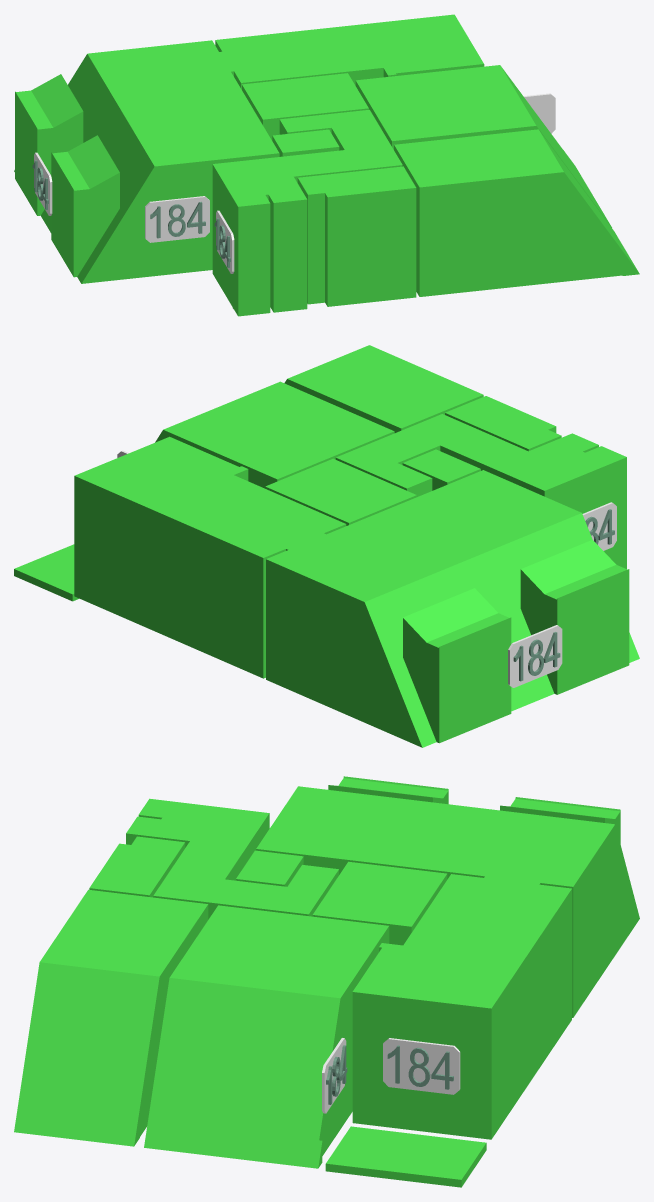
The picture shows the model from 3 angles, top to bottom: view 1: azimuth 30°, elevation 25°; view 2: azimuth 150°, elevation 25°; view 3: azimuth 270°, elevation 25°; orthographic projection. The views are drawn at different scales.
Parts seen in each view (by area): view 1: g_6, g_2, g_4, g_0, g_5, g_1, g_3, g_20, g_7, g_24, g_28, g_12; view 2: g_6, g_5, g_4, g_1, g_2, g_3, g_0, g_8, g_12, g_7, g_28; view 3: g_1, g_5, g_6, g_2, g_4, g_8, g_3, g_0, g_16, g_7, g_24.
Part boxes in pixels (<box>): g_6: <box>14,40,279,283</box>; g_2: <box>394,129,639,296</box>; g_4: <box>212,109,402,316</box>; g_0: <box>297,166,416,306</box>; g_5: <box>215,14,484,89</box>; g_1: <box>355,65,611,227</box>; g_3: <box>242,73,368,140</box>; g_20: <box>145,196,209,242</box>; g_7: <box>272,129,339,156</box>; g_24: <box>523,93,555,133</box>; g_28: <box>216,210,234,273</box>; g_12: <box>34,152,52,215</box>; g_6: <box>266,470,639,747</box>; g_5: <box>74,436,346,678</box>; g_4: <box>335,414,626,568</box>; g_1: <box>155,381,394,488</box>; g_2: <box>284,345,483,432</box>; g_3: <box>265,458,416,525</box>; g_0: <box>445,396,561,451</box>; g_8: <box>14,544,79,601</box>; g_12: <box>508,625,562,687</box>; g_7: <box>402,449,480,490</box>; g_28: <box>582,502,616,550</box>; g_1: <box>144,905,389,1168</box>; g_5: <box>352,874,571,1139</box>; g_6: <box>256,776,639,1017</box>; g_2: <box>14,889,208,1146</box>; g_4: <box>126,798,338,919</box>; g_8: <box>325,1126,486,1187</box>; g_3: <box>312,861,447,945</box>; g_0: <box>89,836,185,897</box>; g_16: <box>383,1038,460,1094</box>; g_7: <box>236,850,303,886</box>; g_24: <box>322,1038,346,1113</box>.
Bounding box in the file's own units: 12.42 × 2.71 × 11.01.
